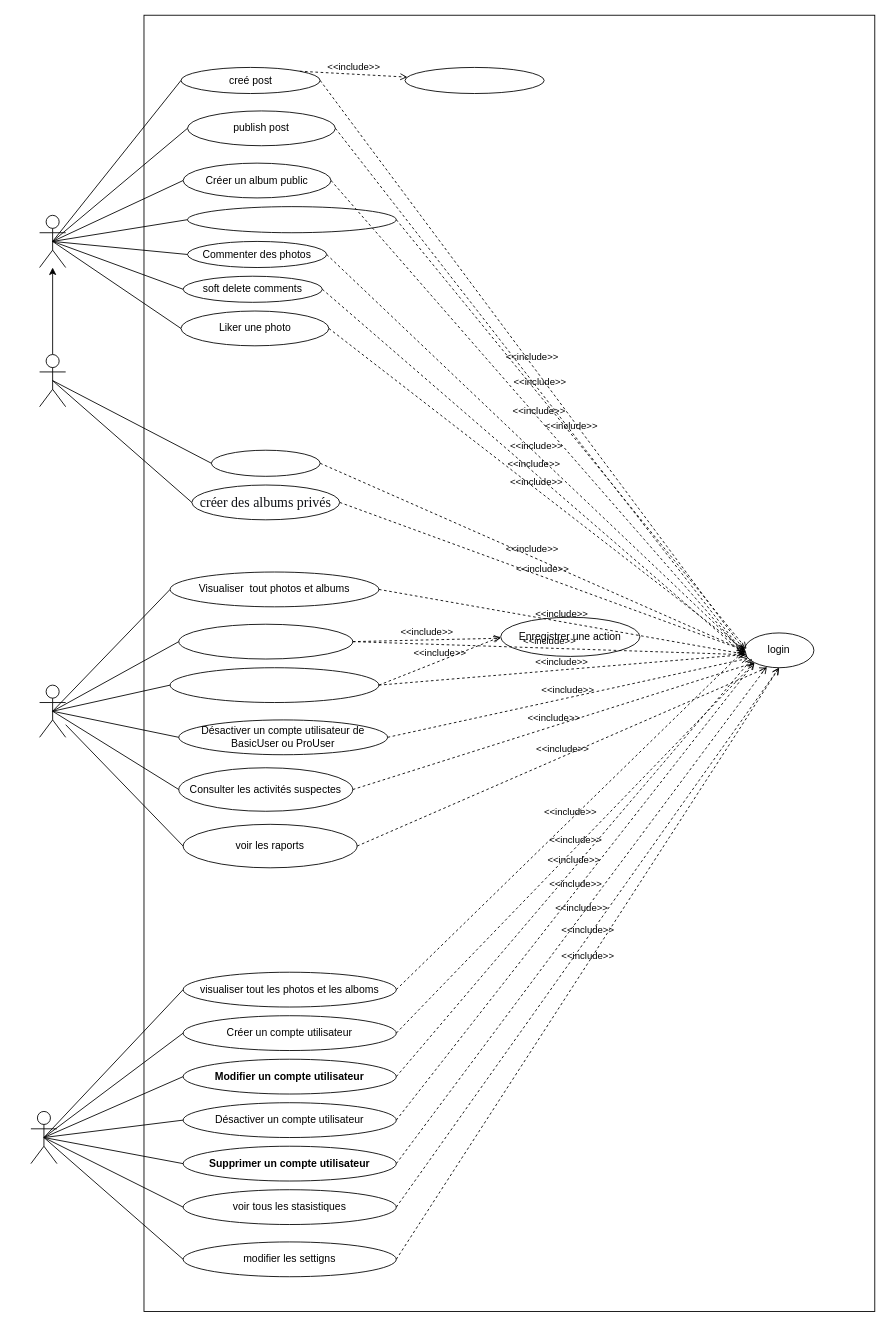
Image size: 890x1327. Some labels were removed from this diagram. Here are the shapes that lost their labels. From the top down, the centre of each, then its label:
At [474,80]: "upload image".
At [291,219]: "Visualiser ses propres photos et albums".
At [52,241]: "BasicUser".
At [52,380]: "ProUser".
At [265,462]: "Abonnement".
At [265,641]: "Supprimer un post".
At [274,685]: "Supprimer un commentaire inapproprié".
At [52,710]: "Moderator".
At [43,1137]: "Admin".
